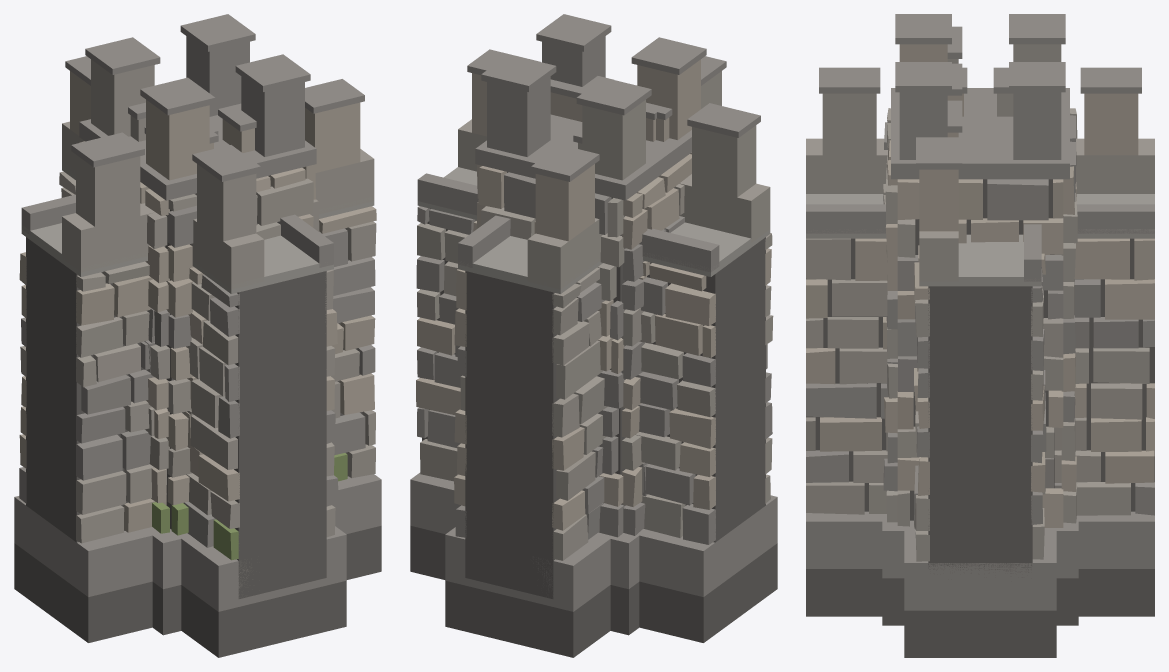
File: SM_Wall_Cross.fbx
3 renders of one model, left to right at view 1: azimuth 30°, elevation 25°; view 2: azimuth 150°, elevation 25°; view 3: azimuth 270°, elevation 25°, orthographic. The views are drawn at different scales.
Parts seen in each view (by area): view 1: SM_Wall_Cross; view 2: SM_Wall_Cross; view 3: SM_Wall_Cross.
Boxes of the visible parts, bbox=[...] form: SM_Wall_Cross: bbox=[14, 14, 381, 657]; SM_Wall_Cross: bbox=[410, 14, 777, 657]; SM_Wall_Cross: bbox=[806, 14, 1154, 657].
Bounding box in the file's own units: 4 × 6.76 × 4.
